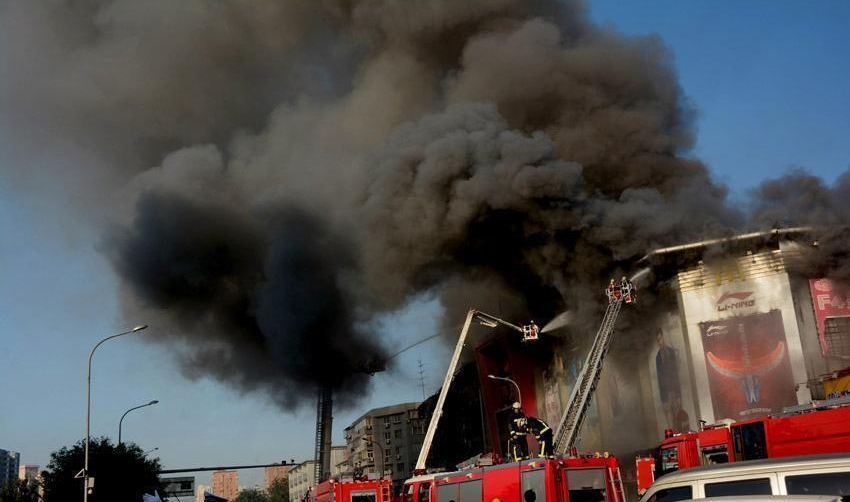烟雾: (0, 0, 849, 457)
